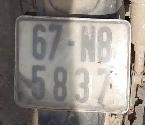2: (96, 66, 114, 108)
3: (75, 65, 89, 106)
5: (30, 63, 48, 101)
6: (31, 21, 46, 60)
7: (48, 23, 63, 61)
8: (97, 25, 117, 63), (52, 66, 69, 103)
N: (81, 25, 95, 62)
